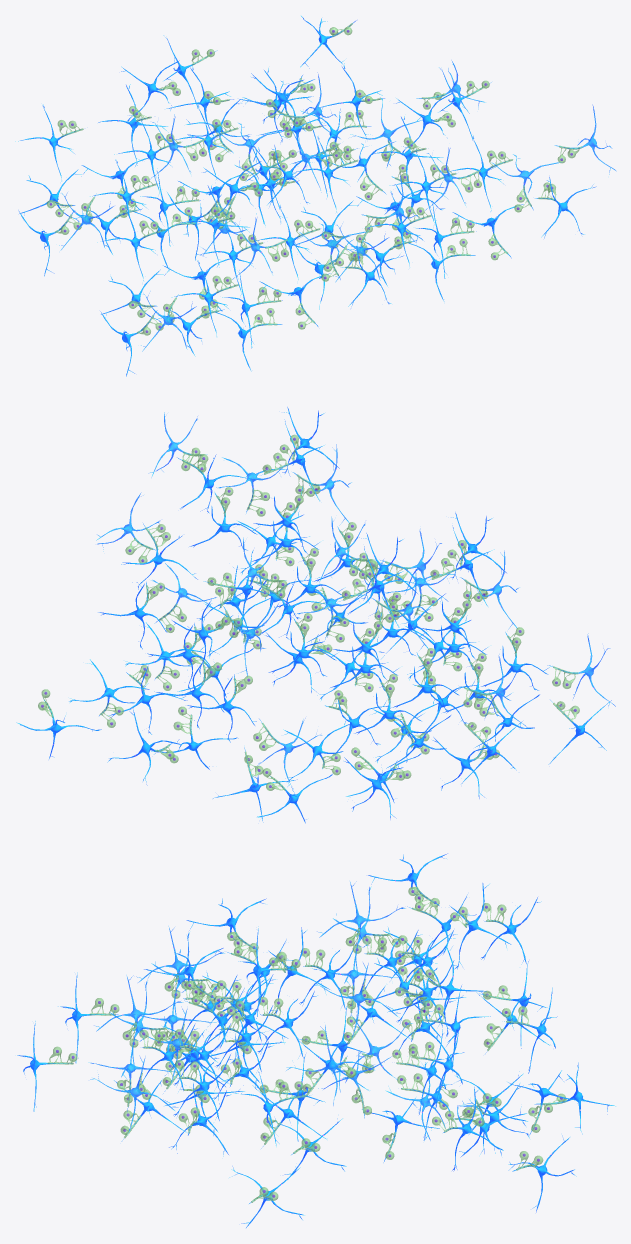
File: neuronal-environment-lite.glb
3 renders of one model, top to bottom at view 1: azimuth 30°, elevation 25°; view 2: azimuth 150°, elevation 25°; view 3: azimuth 270°, elevation 25°, orthographic. The views are drawn at different scales.
Size of the model in its own units: 0.5395 by 0.3203 by 0.556.
